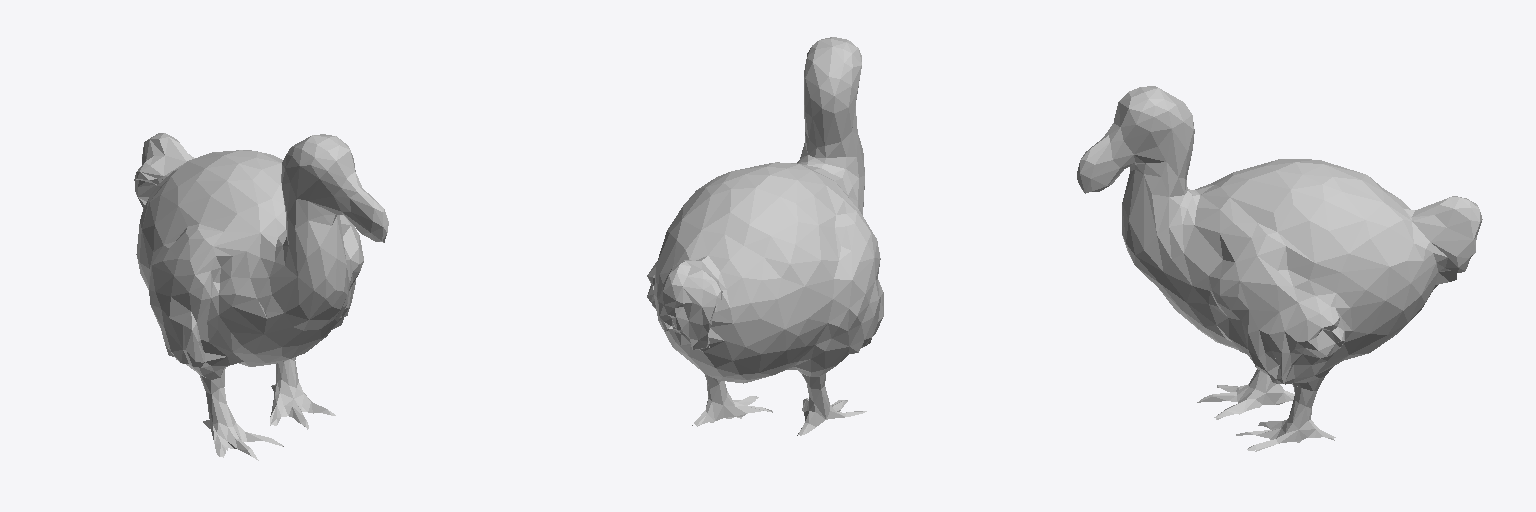
File: dodo.obj
3 views of the same model, side by side, from view 1: azimuth 30°, elevation 25°; view 2: azimuth 150°, elevation 25°; view 3: azimuth 270°, elevation 25° (orthographic).
Visible parts, largest first — view 1: dodo_lowpoly_dodo.025; view 2: dodo_lowpoly_dodo.025; view 3: dodo_lowpoly_dodo.025.
Boxes of the visible parts, box(x1,y1,x2,y2) form: dodo_lowpoly_dodo.025: box(134, 133, 388, 460); dodo_lowpoly_dodo.025: box(647, 37, 883, 435); dodo_lowpoly_dodo.025: box(1077, 86, 1482, 451).
Size of the model in its own units: 0.8066 by 1.3 by 1.43.